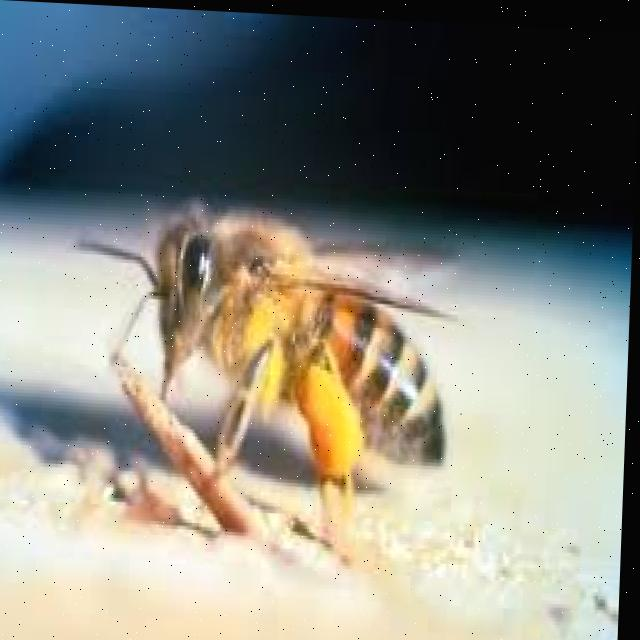Apis-mellifera-scutellata: (52, 166, 488, 514)
